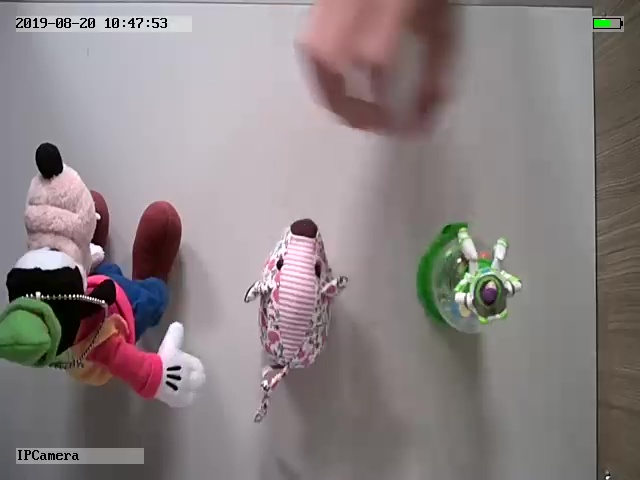buzz: (413, 222, 521, 336)
goofy: (1, 137, 207, 409)
pig: (225, 216, 351, 421)
